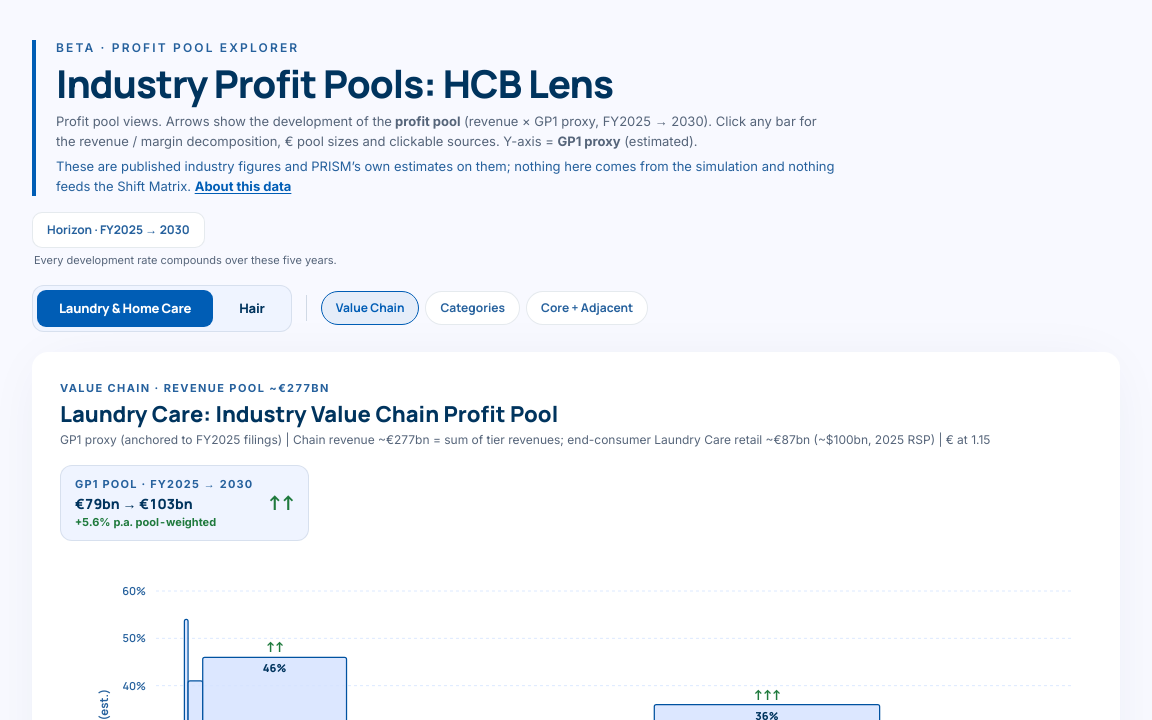
Test: ProfitPoolExplorer: the page › switches the business area and the view with pressed buttons, not tabs
Expected: the element named "Business area" is shown, top-left (32, 285), bottom-right (292, 332)
What coordinates should you click on to do the following:
click the button "Hair"
I would click on:
 (252, 308)
Its box is top-left (217, 290), bottom-right (287, 327).
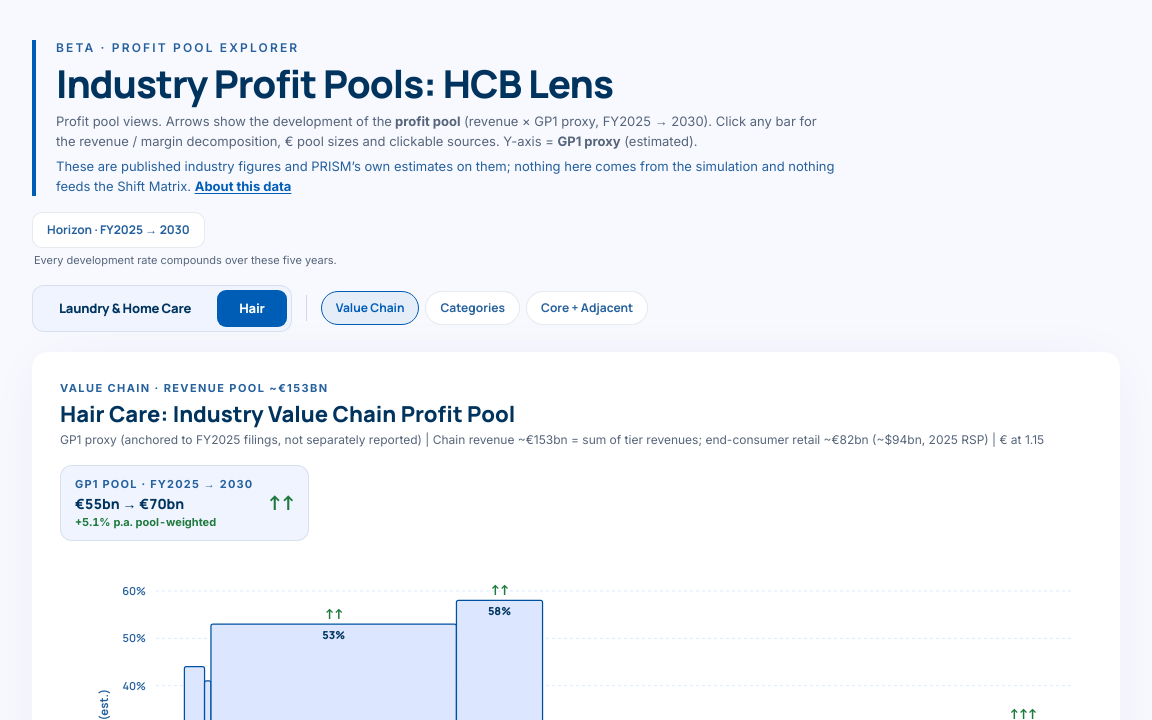
Expected: the text "Hair Care: Industry Value Chain Profit Pool" is shown, top-left (60, 399), bottom-right (515, 429)
What coordinates should you click on to do the following:
click the button "Categories"
I would click on:
 (473, 308)
Its box is top-left (426, 291), bottom-right (520, 325).
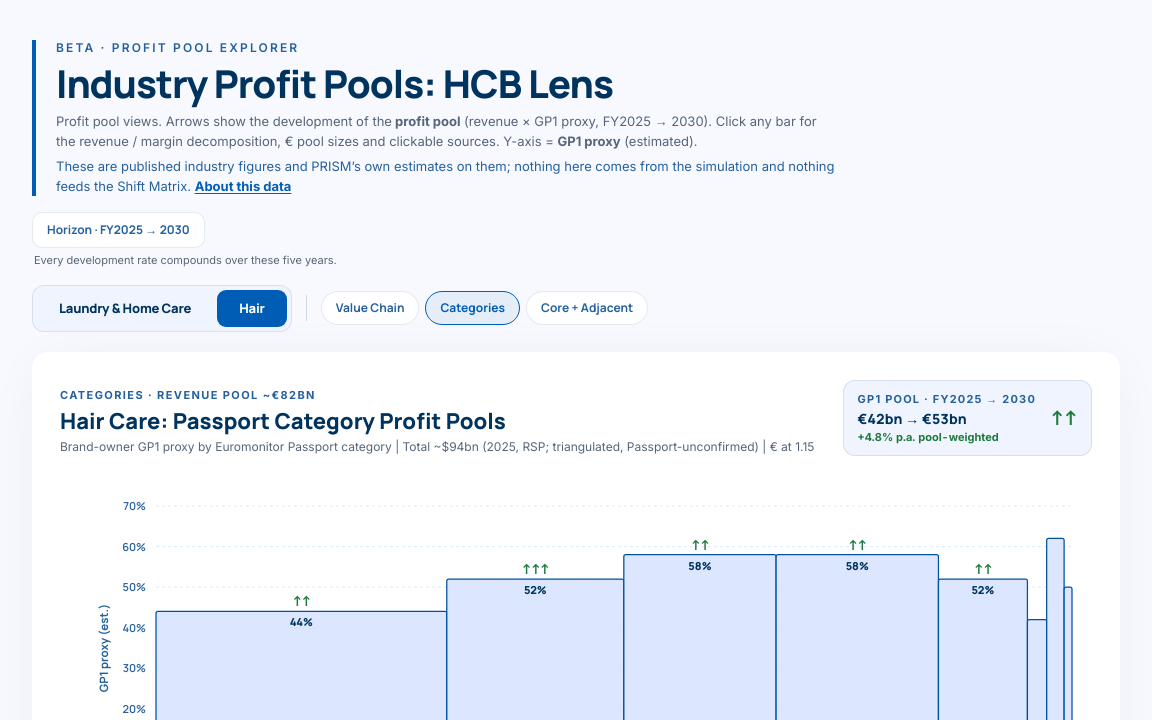
Expected: the text "Hair Care: Passport Category Profit Pools" is shown, top-left (60, 406), bottom-right (506, 436)
